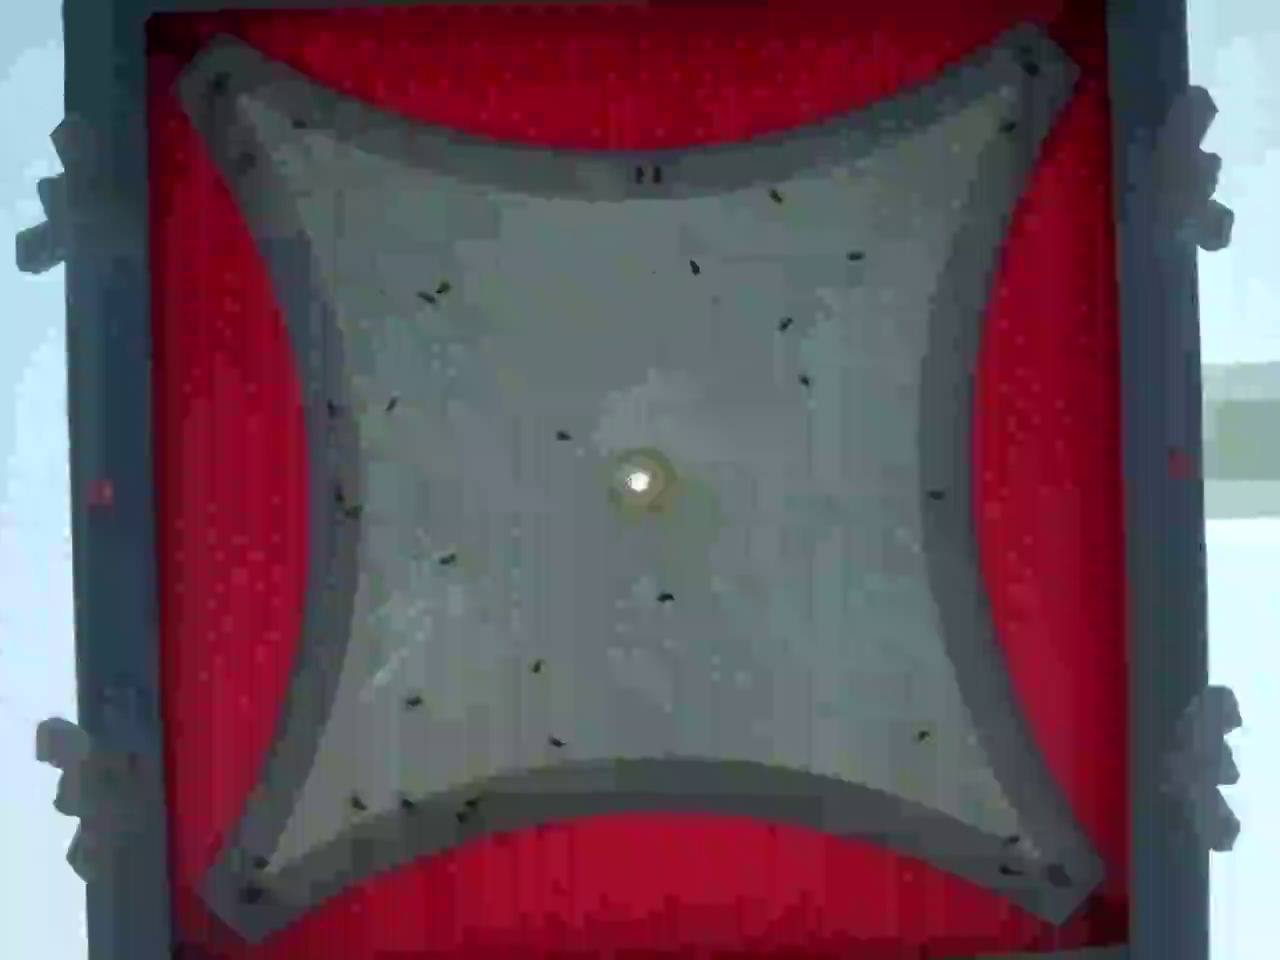fly: (201, 92, 226, 117), (997, 117, 1022, 142), (243, 149, 268, 174), (843, 243, 868, 268), (764, 184, 789, 209), (773, 311, 798, 336), (379, 392, 404, 417), (793, 369, 818, 394), (322, 483, 347, 508), (922, 482, 947, 507), (550, 424, 575, 449), (652, 584, 677, 609), (343, 501, 368, 526), (909, 723, 934, 748), (346, 793, 371, 818), (395, 792, 420, 817), (399, 689, 424, 714), (542, 731, 567, 756), (998, 828, 1023, 853), (246, 850, 271, 875), (681, 255, 706, 280), (627, 161, 652, 186), (414, 285, 439, 310), (436, 546, 461, 571), (523, 654, 548, 679), (430, 276, 455, 301), (317, 395, 342, 419)
